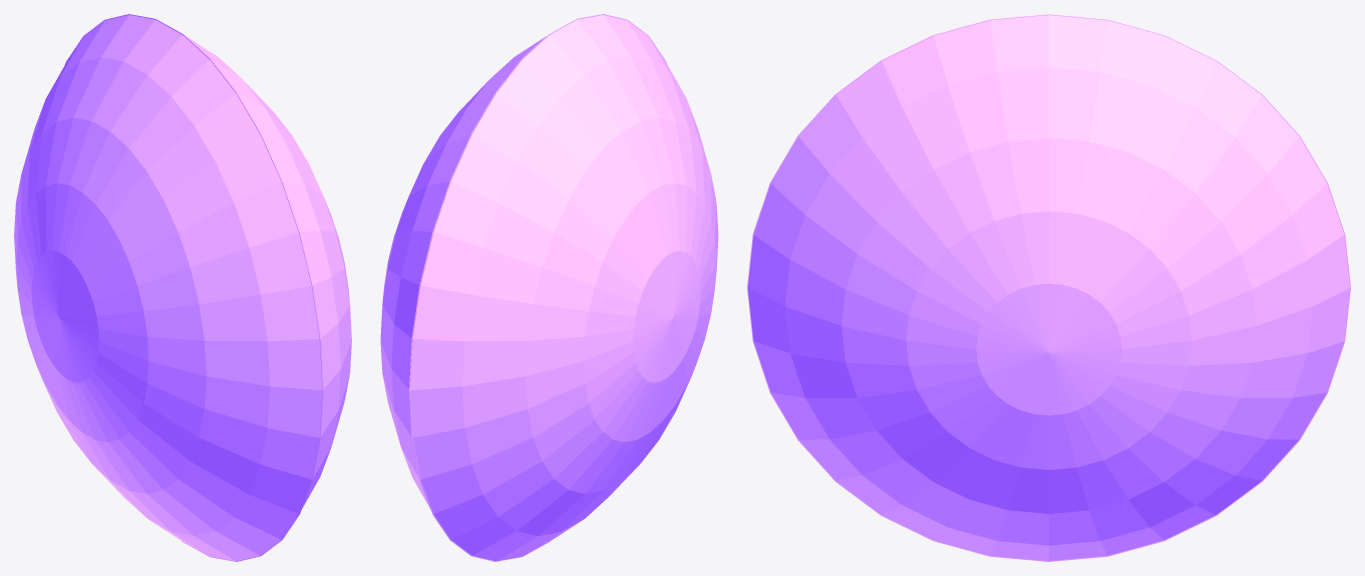
Rendered from lens.DAE.
The picture shows the model from 3 angles, left to right: view 1: azimuth 30°, elevation 25°; view 2: azimuth 150°, elevation 25°; view 3: azimuth 270°, elevation 25°; orthographic projection. The views are drawn at different scales.
Parts seen in each view (by area): view 1: Sphere01, Sphere02; view 2: Sphere01, Sphere02; view 3: Sphere02, Sphere01.
Boxes of the visible parts, x1,y1,x2,y2 form: Sphere01: (14, 15, 323, 561); Sphere02: (65, 14, 351, 561); Sphere01: (409, 15, 718, 561); Sphere02: (380, 14, 667, 561); Sphere02: (748, 14, 1350, 560); Sphere01: (747, 14, 1350, 561).
Bounding box in the file's own units: 61.65 × 121 × 121.
